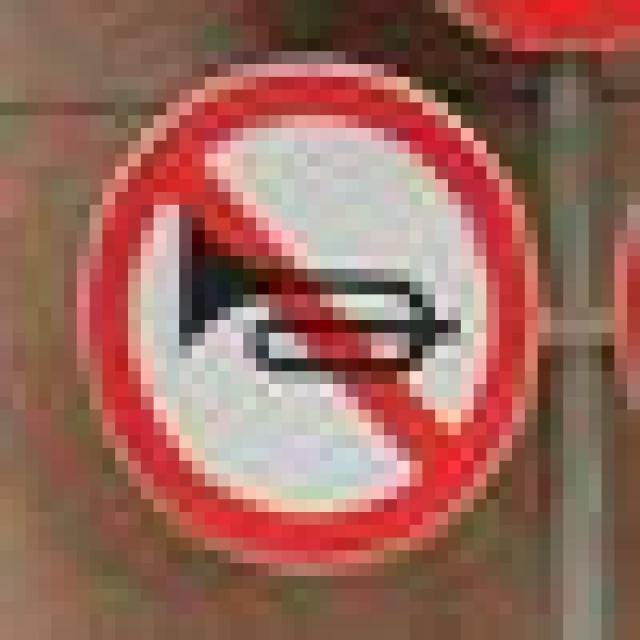horn prohibited: (79, 53, 546, 576)
